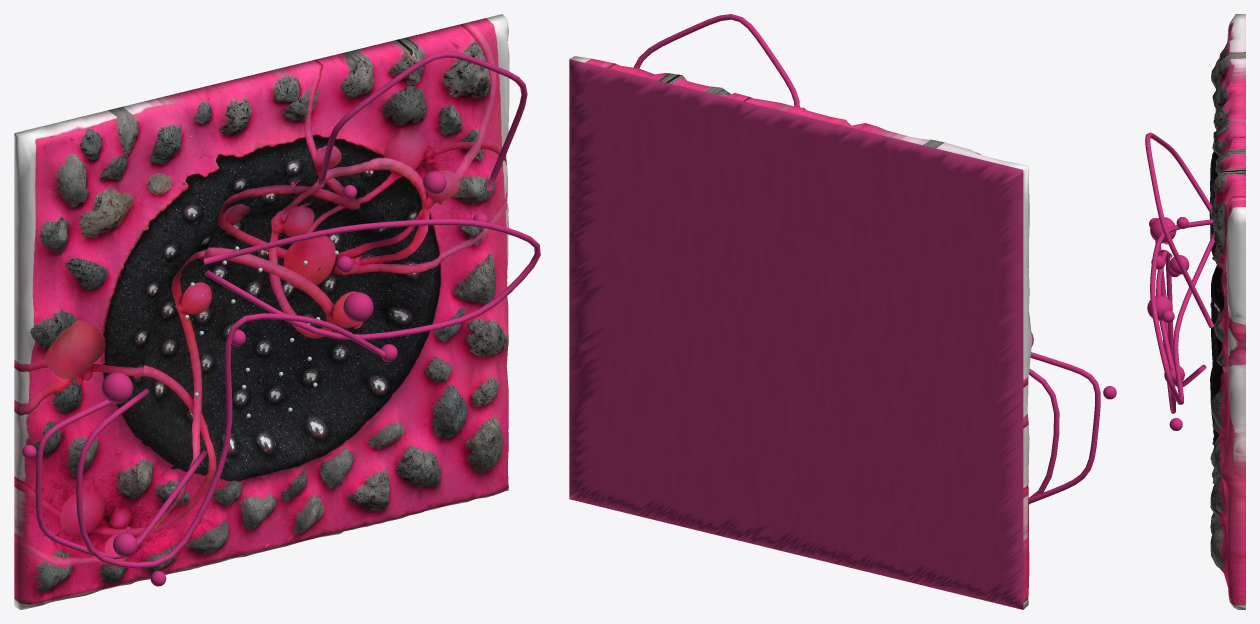
The model's file is hy3d-esc-046.glb.
3 views of the same model, side by side, from view 1: azimuth 30°, elevation 25°; view 2: azimuth 150°, elevation 25°; view 3: azimuth 270°, elevation 25° (orthographic). The views are drawn at different scales.
Visible parts, largest first — view 1: world; view 2: world; view 3: world.
Part boxes in pixels (<box>): world: <box>14,14,540,609</box>; world: <box>569,14,1116,609</box>; world: <box>1145,14,1245,609</box>.
Size of the model in its own units: 0.6372 by 0.5781 by 0.1244.
Materials: 1 (1 with a texture image).
